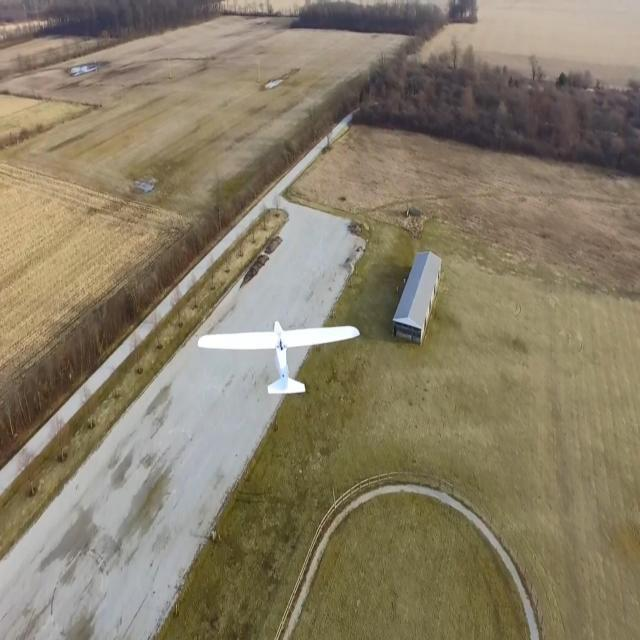iha: (210, 294, 439, 422)
